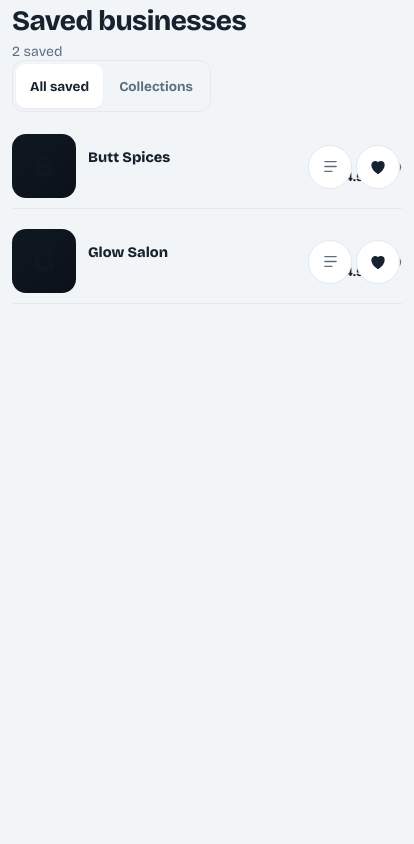
it: SavedBusinessesScreen › unsaves with a success toast and removes the row
This screenshot has width=414, height=844.
Expected: the text "Butt Spices" is shown, x1=88 y1=149 x2=170 y2=166
Click the button named "Remove Butt Spices from saved" at (378, 167), box x1=356 y1=145 x2=400 y2=189
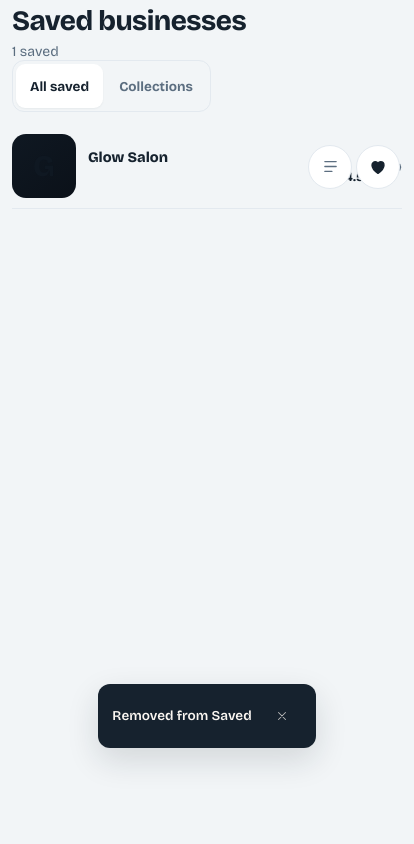
Expected: the text "Glow Salon" is shown, x1=88 y1=149 x2=168 y2=166
Now the text "Removed from Saved" is shown, box x1=112 y1=706 x2=252 y2=725
Now the button "Butt Spices" is gone
